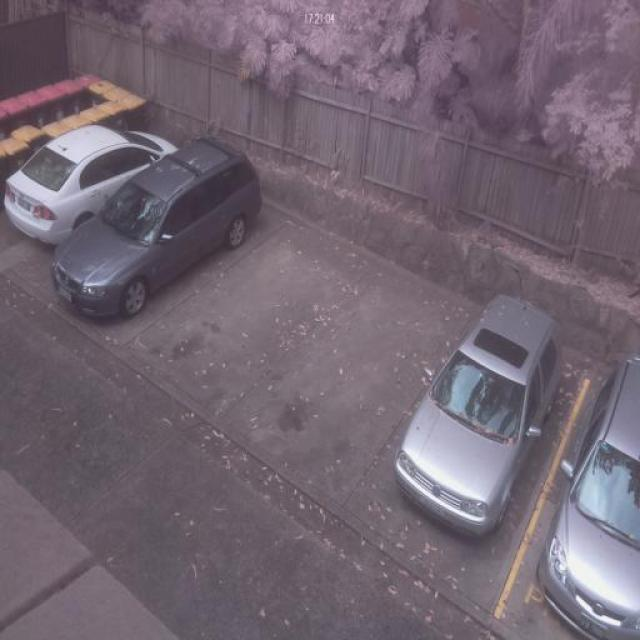Legalparking: (362, 256, 640, 640), (0, 88, 278, 334)
